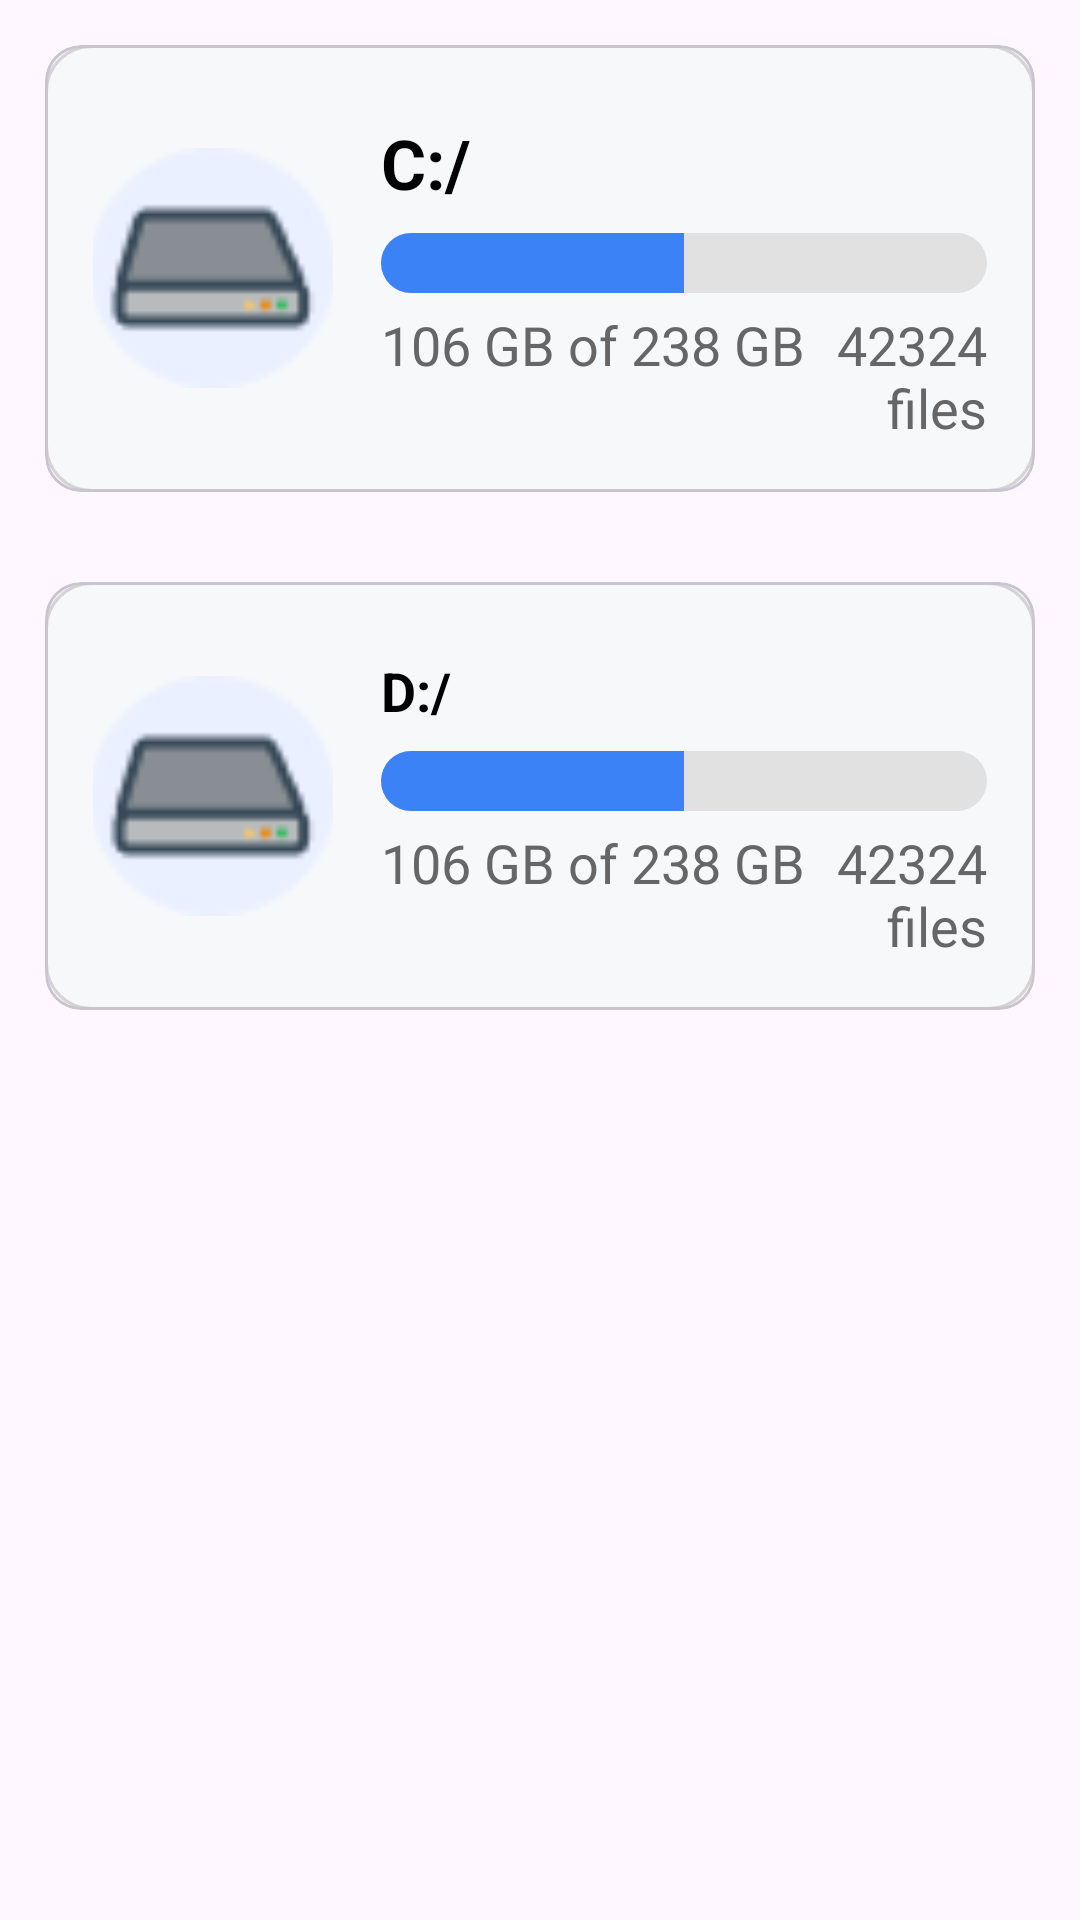

Named icons in this screenshot (1080×1920) and their centers, (x=x, y=y):
drive: (x=211, y=268), (x=211, y=796)
